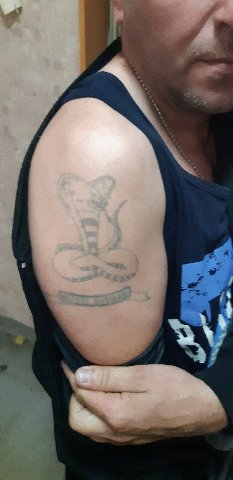tatu7_zmeya: (49, 154, 146, 287)
